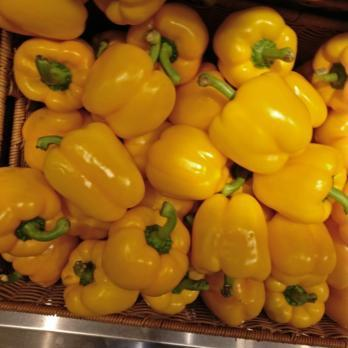Capsicum: (0, 0, 348, 319)
